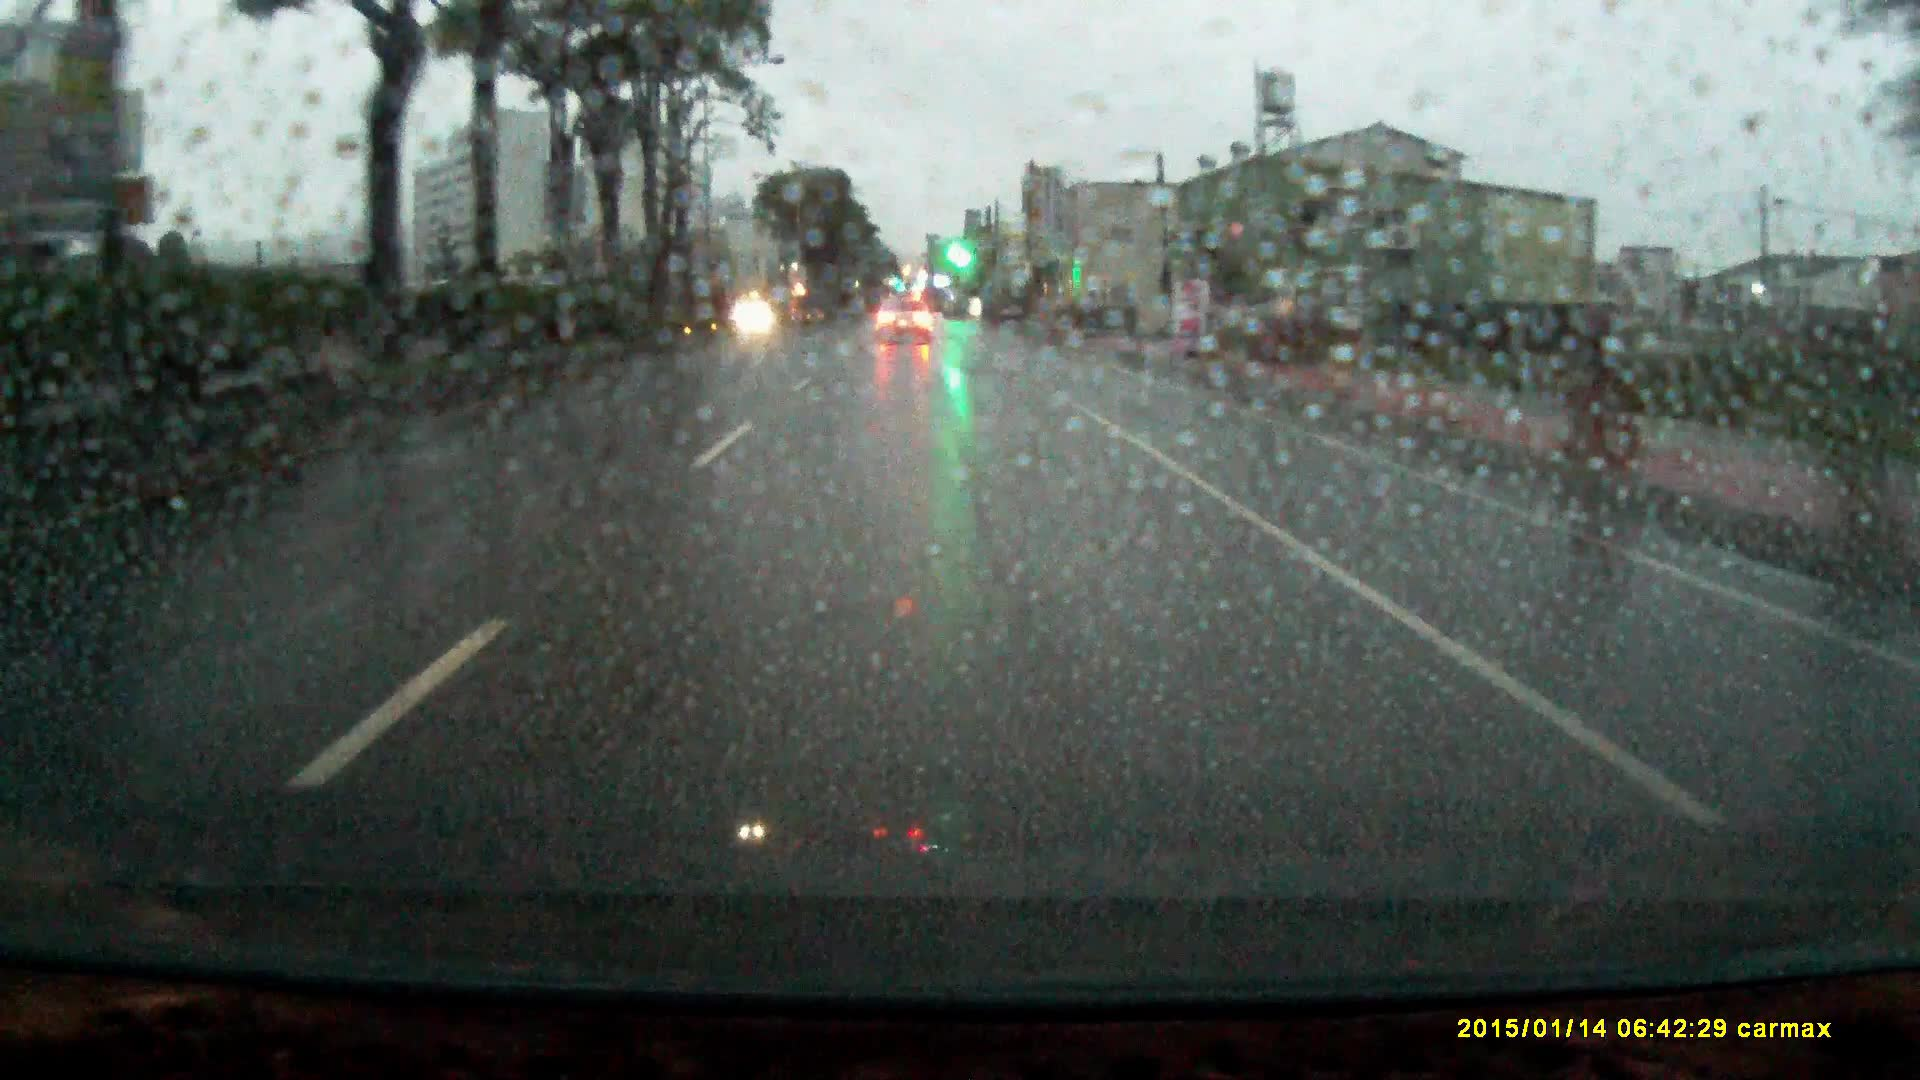vehicle: (876, 301, 935, 347)
